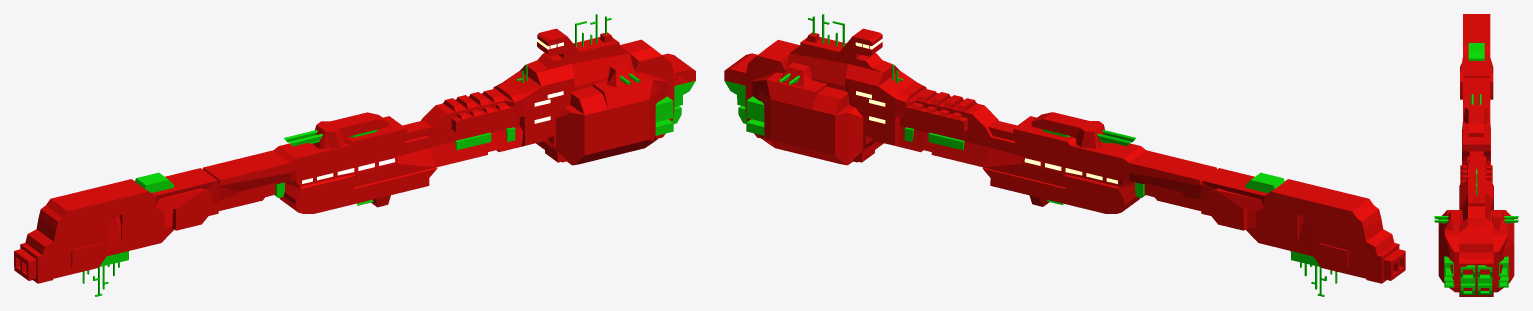
Rendered from Hifrin 3D.fbx.
3 views of the same model, side by side, from view 1: azimuth 30°, elevation 25°; view 2: azimuth 150°, elevation 25°; view 3: azimuth 270°, elevation 25° (orthographic). The views are drawn at different scales.
Visible parts, largest first — view 1: PrimaryHull, TertiaryHull, Turret.004, SpecialHull, Turret.001; view 2: PrimaryHull, TertiaryHull, Turret.004, SpecialHull, Turret; view 3: PrimaryHull, TertiaryHull, Turret.004, Turret.001, Turret.
Part boxes in pixels (left/top/right/bottom): PrimaryHull: left=14, top=28, right=695, bottom=283; TertiaryHull: left=82, top=14, right=695, bottom=296; Turret.004: left=284, top=112, right=388, bottom=149; SpecialHull: left=302, top=39, right=563, bottom=183; Turret.001: left=607, top=62, right=640, bottom=87; PrimaryHull: left=724, top=28, right=1405, bottom=283; TertiaryHull: left=724, top=14, right=1337, bottom=296; Turret.004: left=1031, top=112, right=1135, bottom=148; SpecialHull: left=855, top=39, right=1117, bottom=183; Turret: left=779, top=62, right=812, bottom=87; PrimaryHull: left=1438, top=14, right=1514, bottom=296; TertiaryHull: left=1444, top=43, right=1508, bottom=294; Turret.004: left=1463, top=94, right=1488, bottom=136; Turret.001: left=1434, top=211, right=1460, bottom=230; Turret: left=1492, top=211, right=1518, bottom=230.
Bounding box in the file's own units: 757 × 174 × 105.
